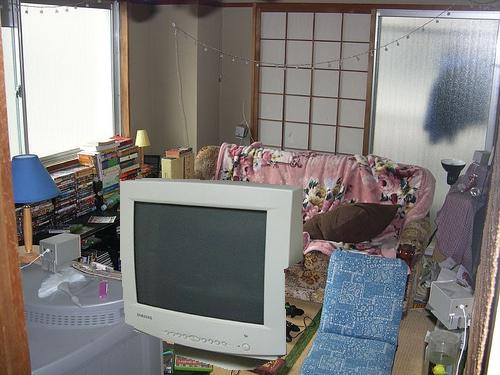tampered: (121, 179, 303, 370)
